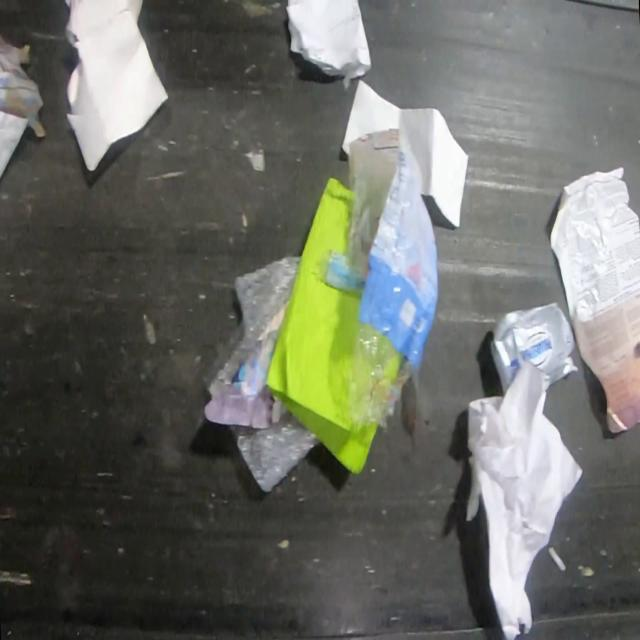cardboard: (490, 300, 580, 397)
soft_plastic: (312, 124, 441, 452), (203, 255, 320, 494)
